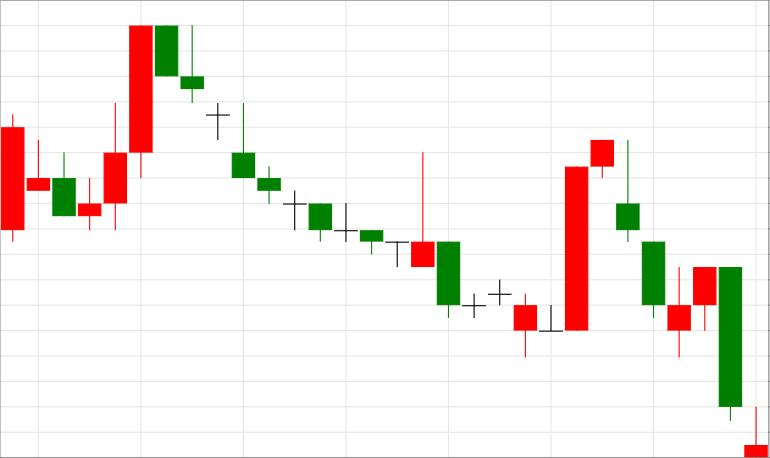inverse_hammer_rise: (156, 25, 434, 268)
